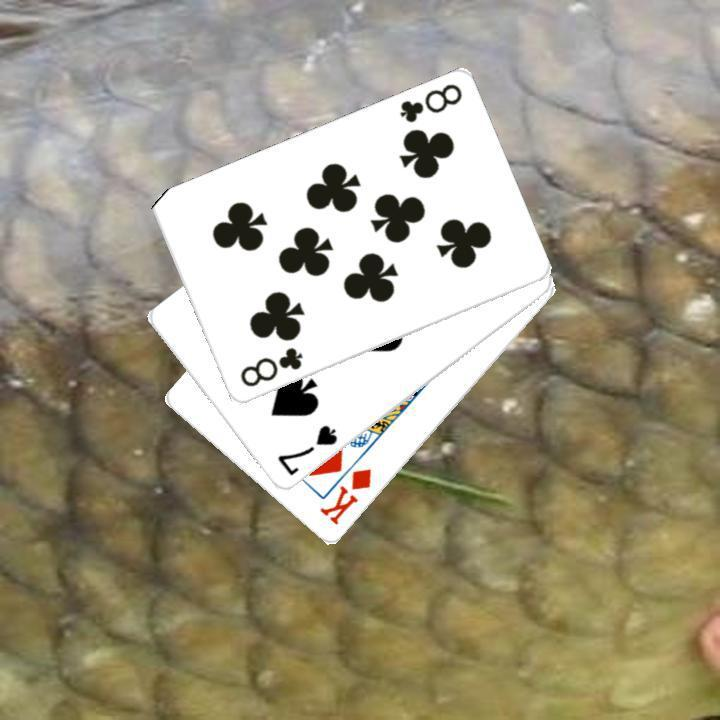7: (273, 421, 340, 479)
8: (235, 343, 305, 390), (394, 80, 464, 126)
K: (315, 464, 374, 528)
